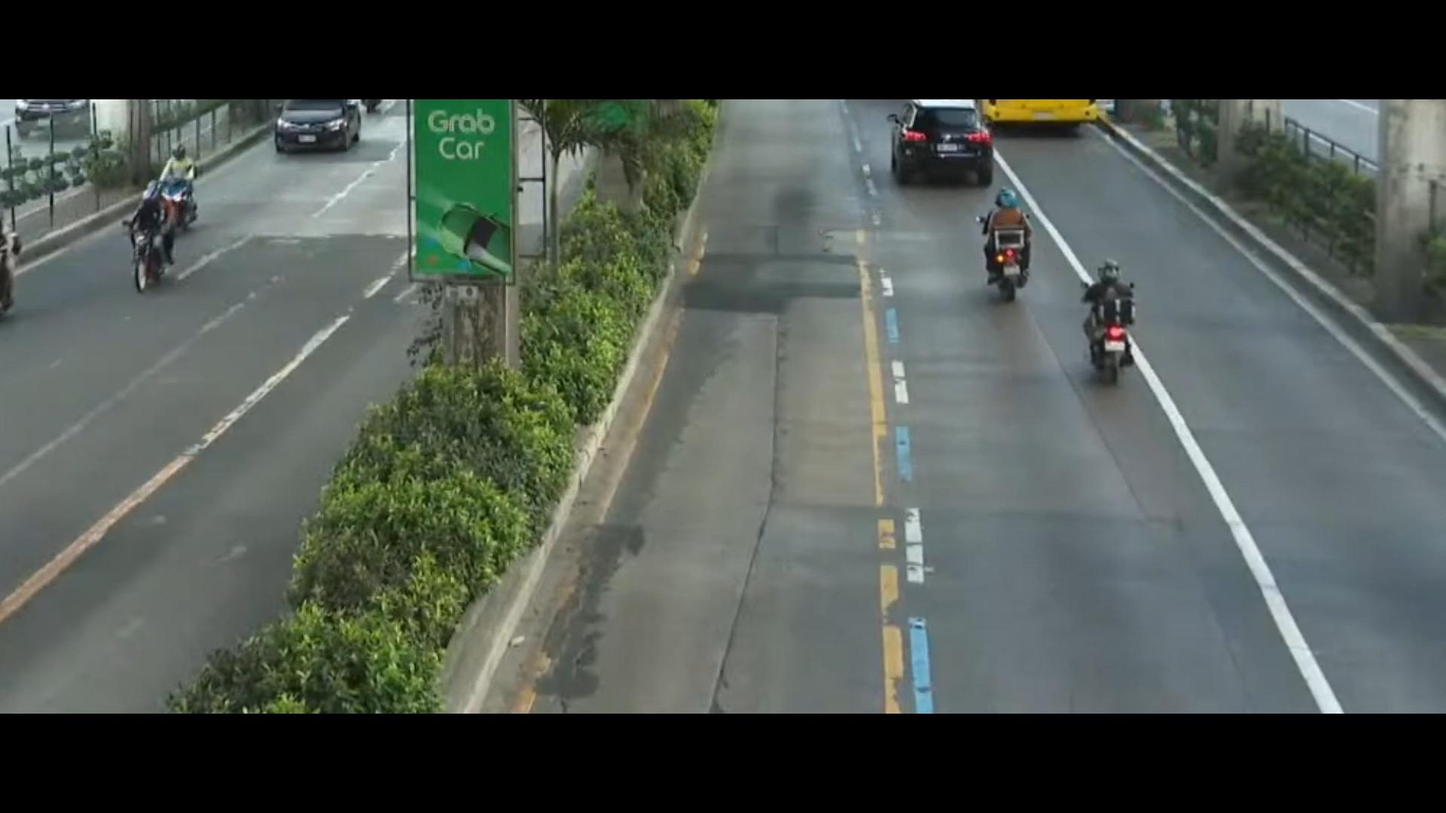Motorcycle: (1050, 256, 1162, 387), (959, 177, 1045, 316), (108, 186, 215, 281), (135, 136, 224, 250)
SUV: (864, 96, 1015, 200)
Sedan: (250, 104, 368, 176)
